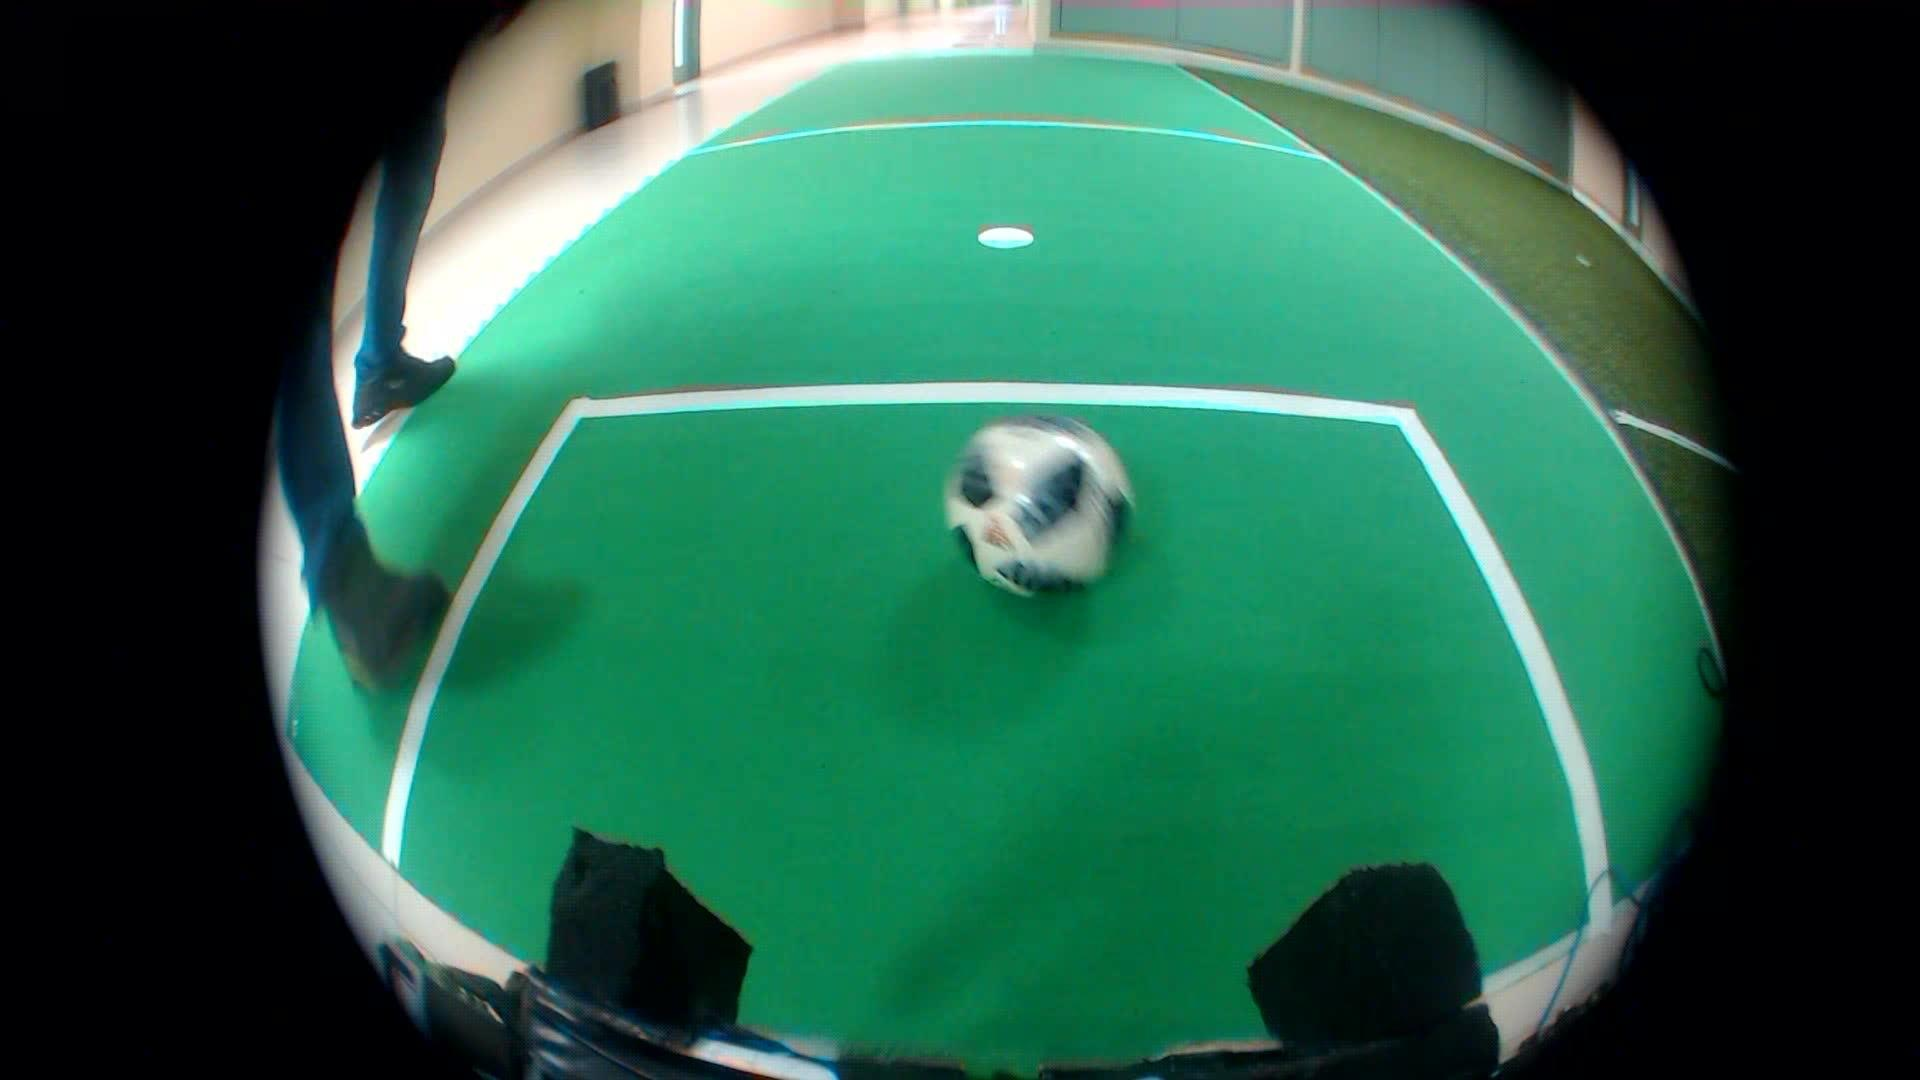ball: (926, 396, 1134, 615)
